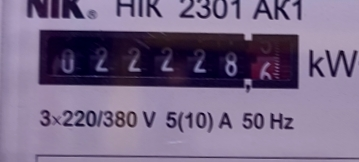0: (58, 45, 75, 74)
2: (91, 44, 110, 73), (125, 44, 142, 73), (191, 46, 208, 75), (157, 45, 175, 72)
5: (257, 35, 273, 55)
6: (257, 58, 273, 79)
8: (222, 49, 238, 77)
screen: (30, 18, 308, 97)
